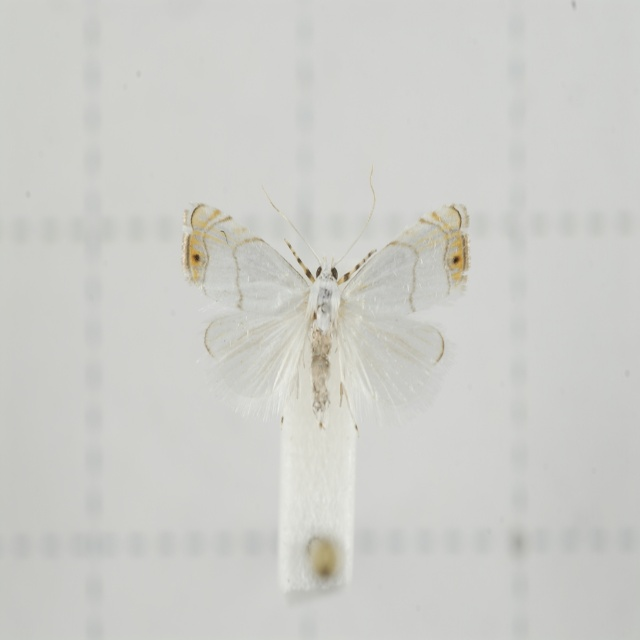Moths and butterflies: (178, 163, 471, 435)
